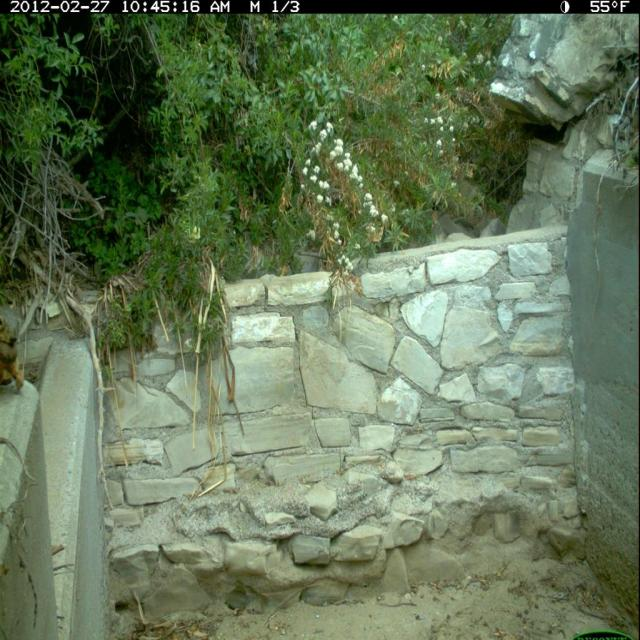squirrel: (2, 309, 33, 393)
